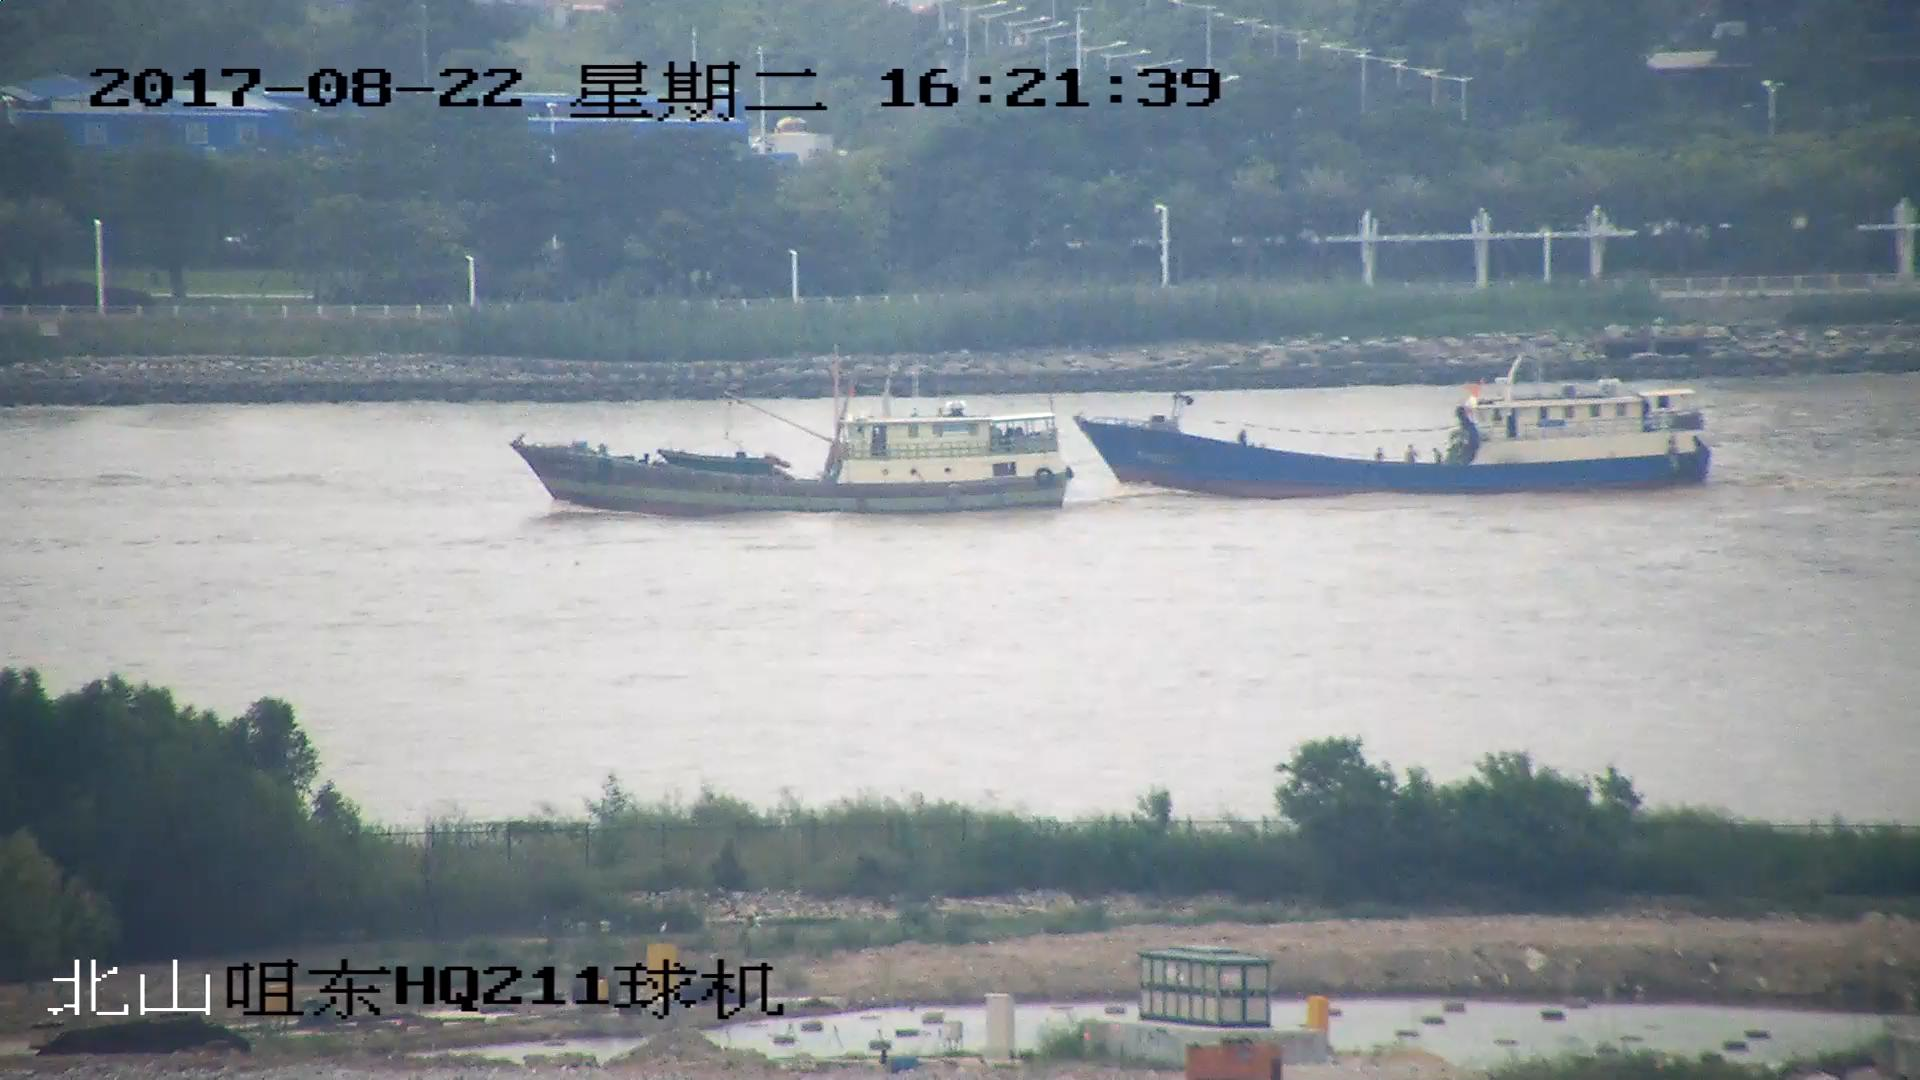fishing boat: (1074, 352, 1718, 497), (512, 363, 1074, 516)
